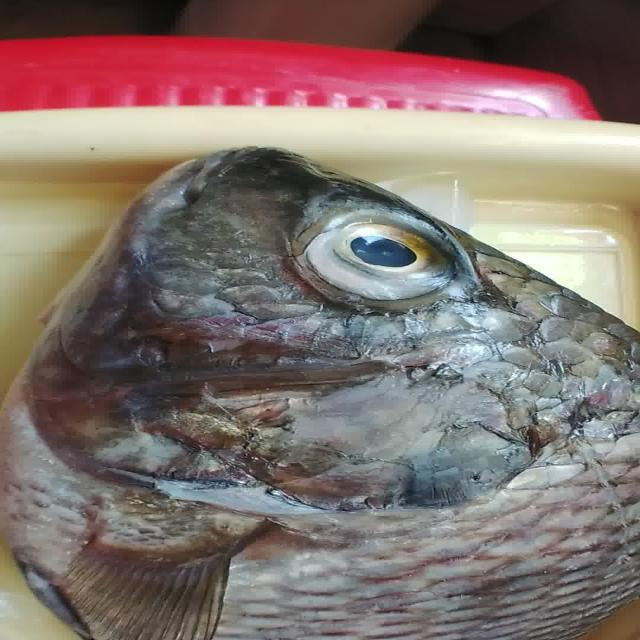Fresh: (283, 185, 464, 312)
